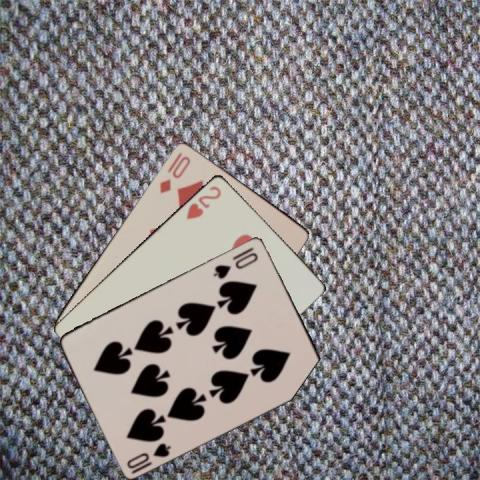10d: (156, 148, 192, 194)
10s: (123, 439, 173, 470), (211, 249, 260, 280)
2h: (183, 183, 223, 220)
